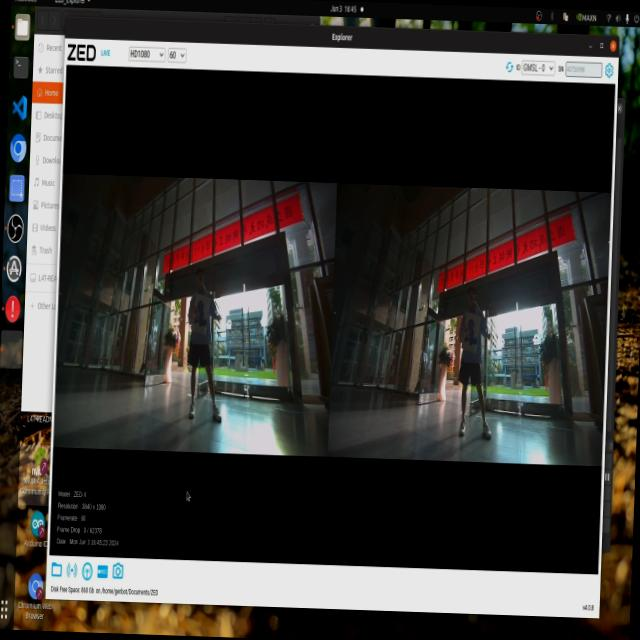blue: (456, 312, 476, 351), (192, 292, 212, 329)
